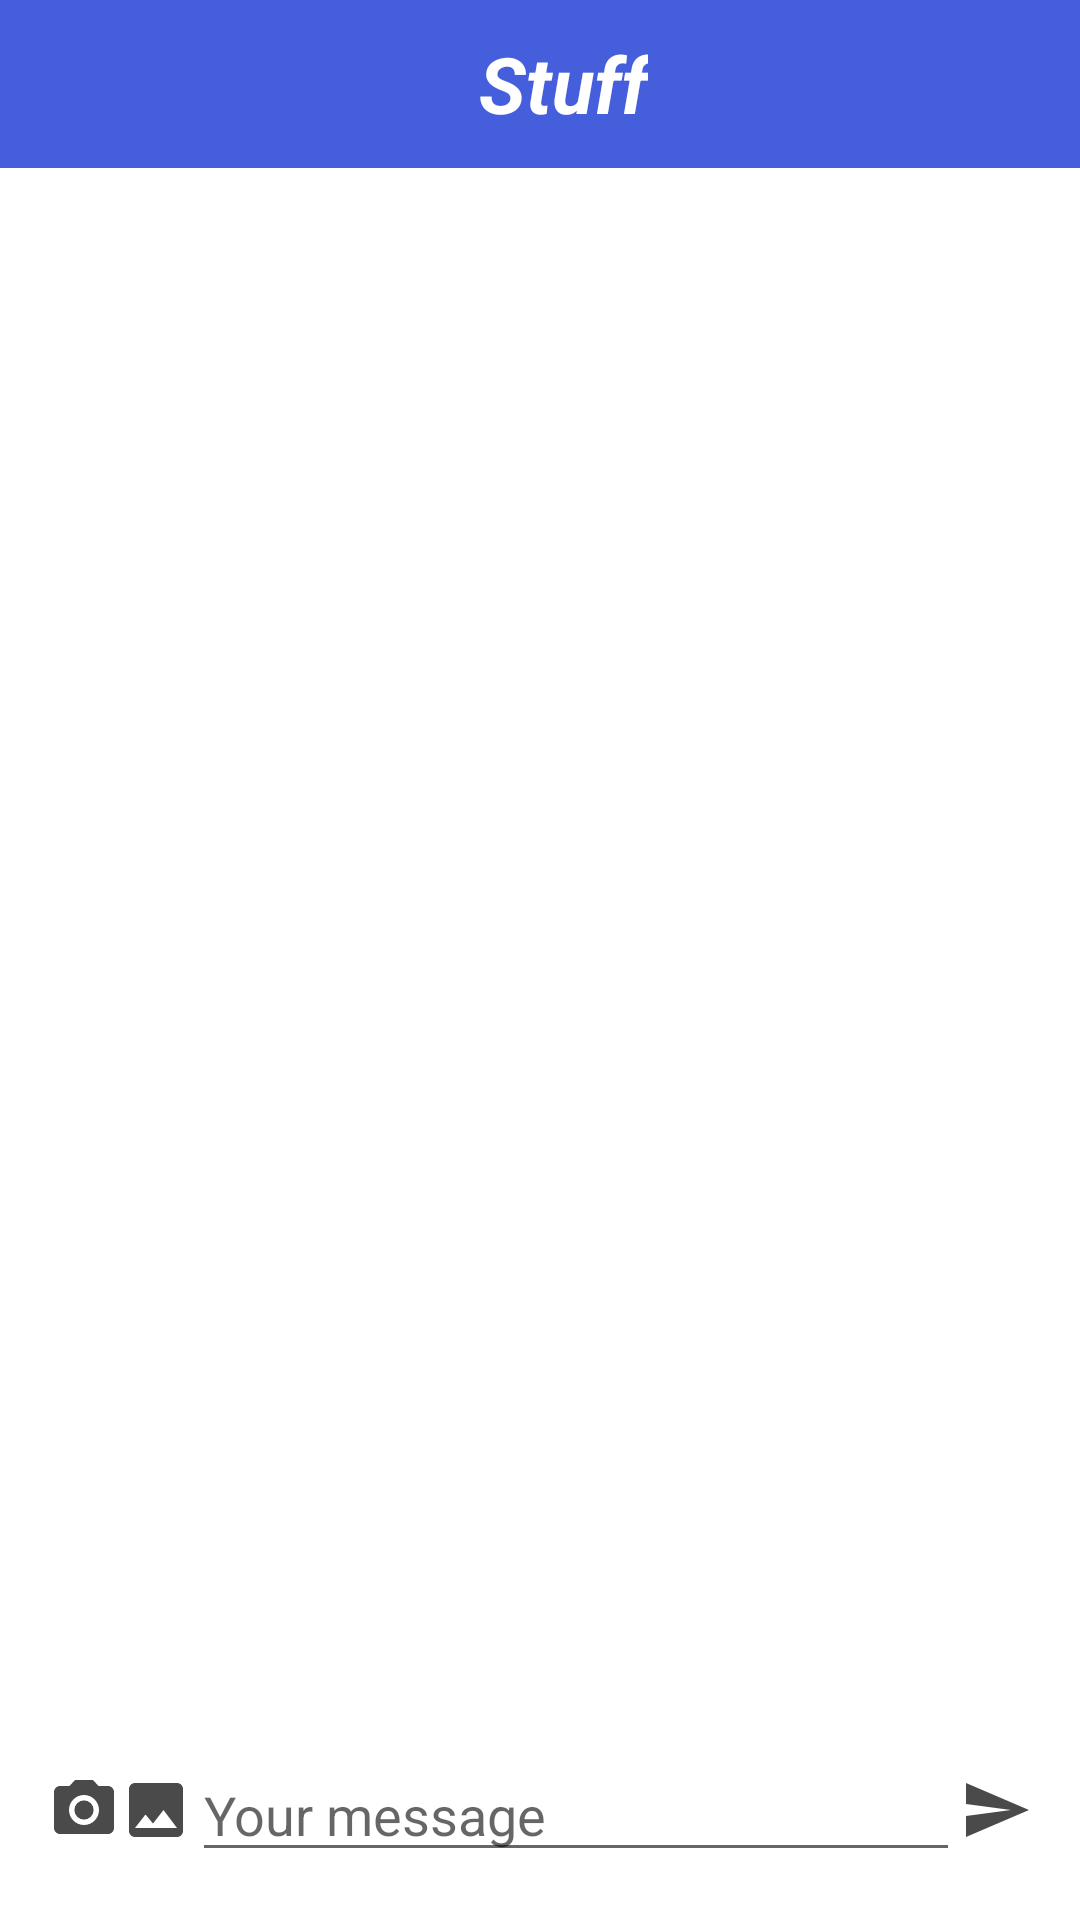

Where to tap for icons on this 1080×1920 app screen, as [x,y]:
camera: [84,1807]
send: [997,1810]
